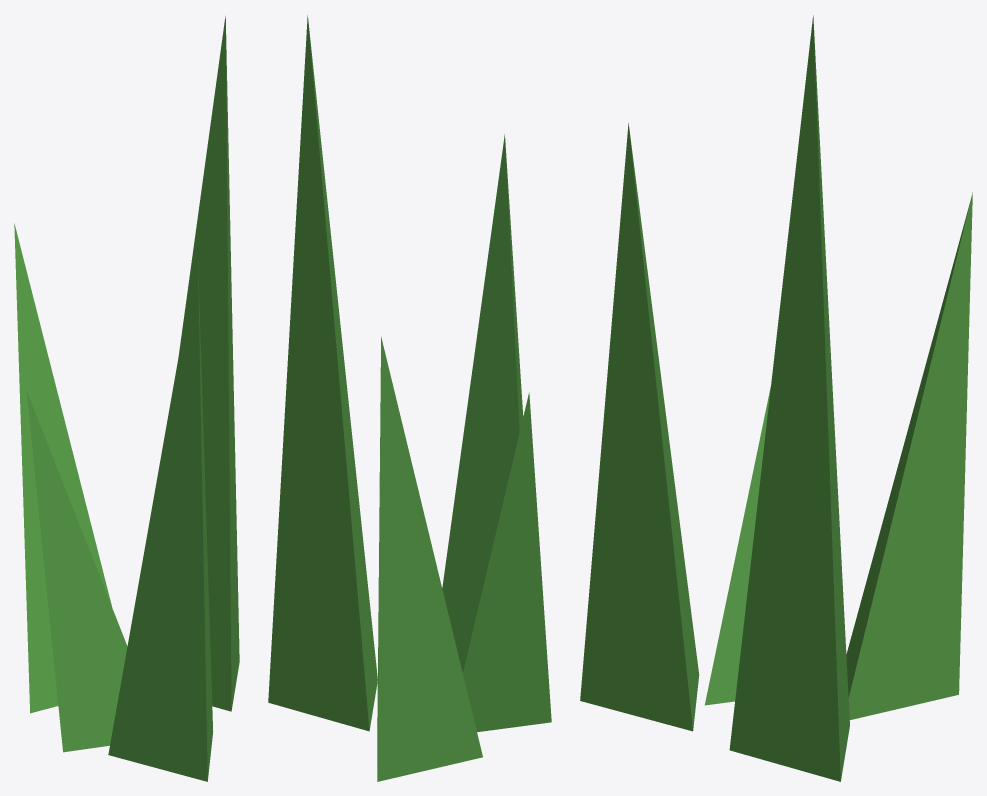
File: grass03.fbx
3 views of the same model, side by side, from view 1: azimuth 30°, elevation 25°; view 2: azimuth 150°, elevation 25°; view 3: azimuth 270°, elevation 25° (orthographic). The views are drawn at different scales.
Parts seen in each view (by area): view 1: grass03; view 2: grass03; view 3: grass03.
Boxes of the visible parts, left/top/right/bottom form: grass03: left=14, top=16, right=239, bottom=781; grass03: left=268, top=15, right=551, bottom=781; grass03: left=580, top=15, right=972, bottom=781.
Size of the model in its own units: 37.18 by 101 by 47.81.
